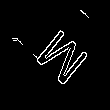M_SW: (23, 21, 87, 89)
